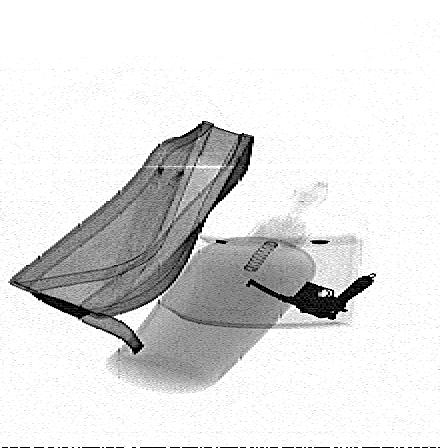Bullet: (32, 289, 147, 355)
Gun: (244, 277, 376, 321)
